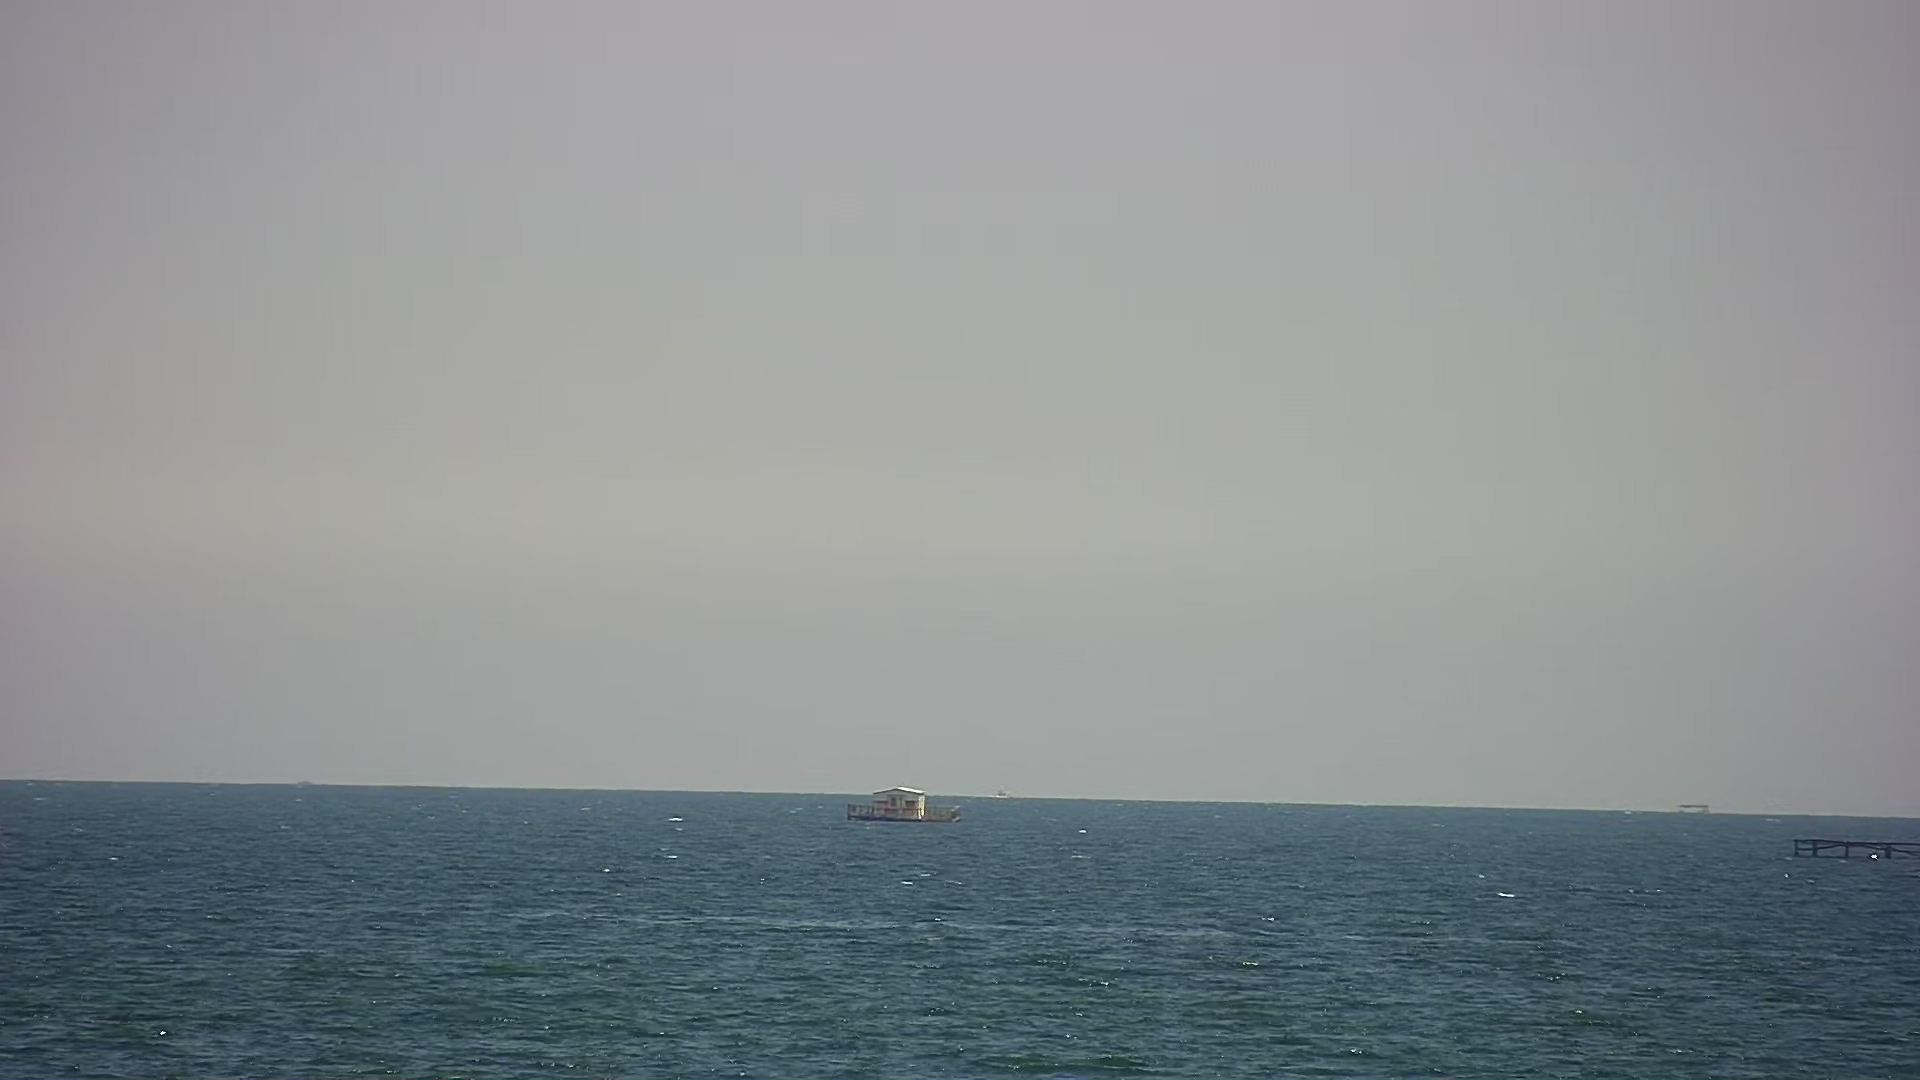platform: (1785, 828, 1920, 880), (829, 785, 969, 833), (1668, 794, 1724, 822)
